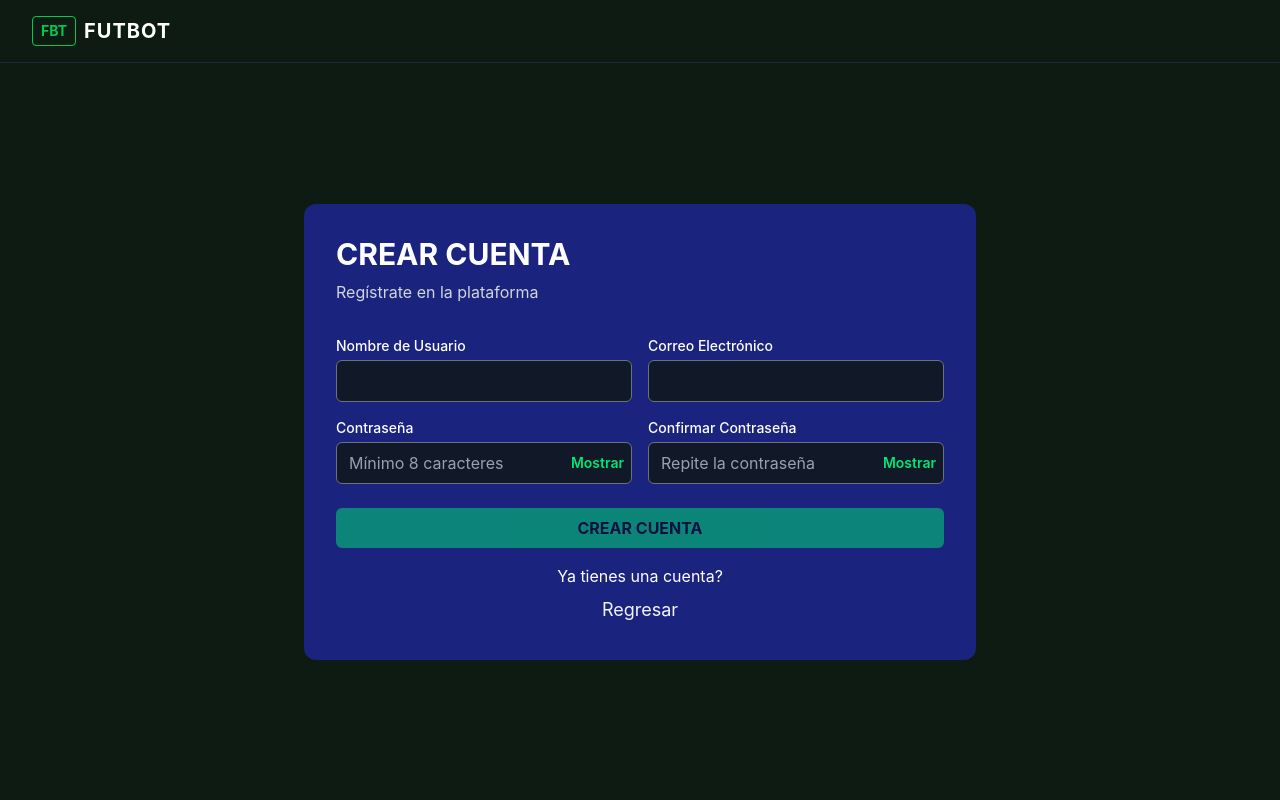
Test case: Registro › muestra el error devuelto por la API
Type "usuario123" into the field labelled "Nombre de Usuario". click: (484, 380)
box: x1=336 y1=360 x2=632 y2=402
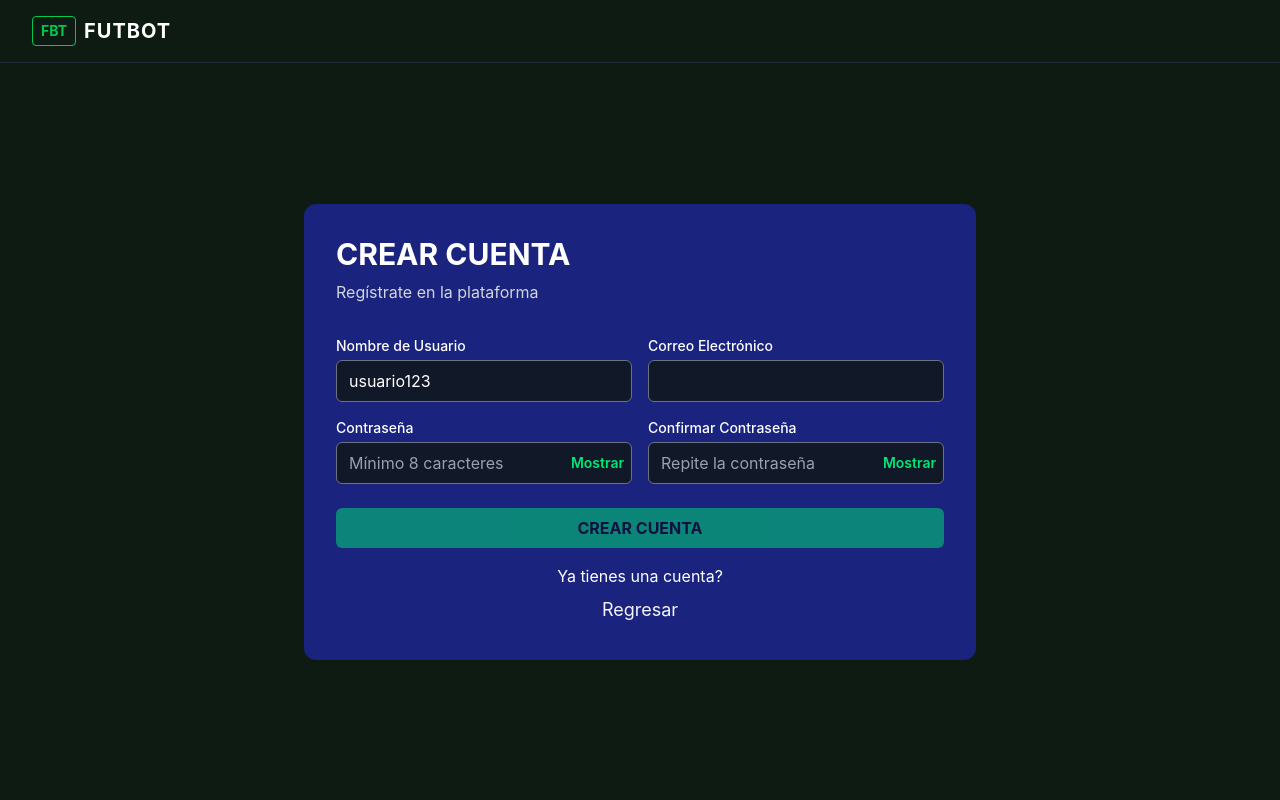
Type "usuario@example.com" into the field labelled "Correo Electrónico". click: (796, 380)
box: x1=648 y1=360 x2=944 y2=402
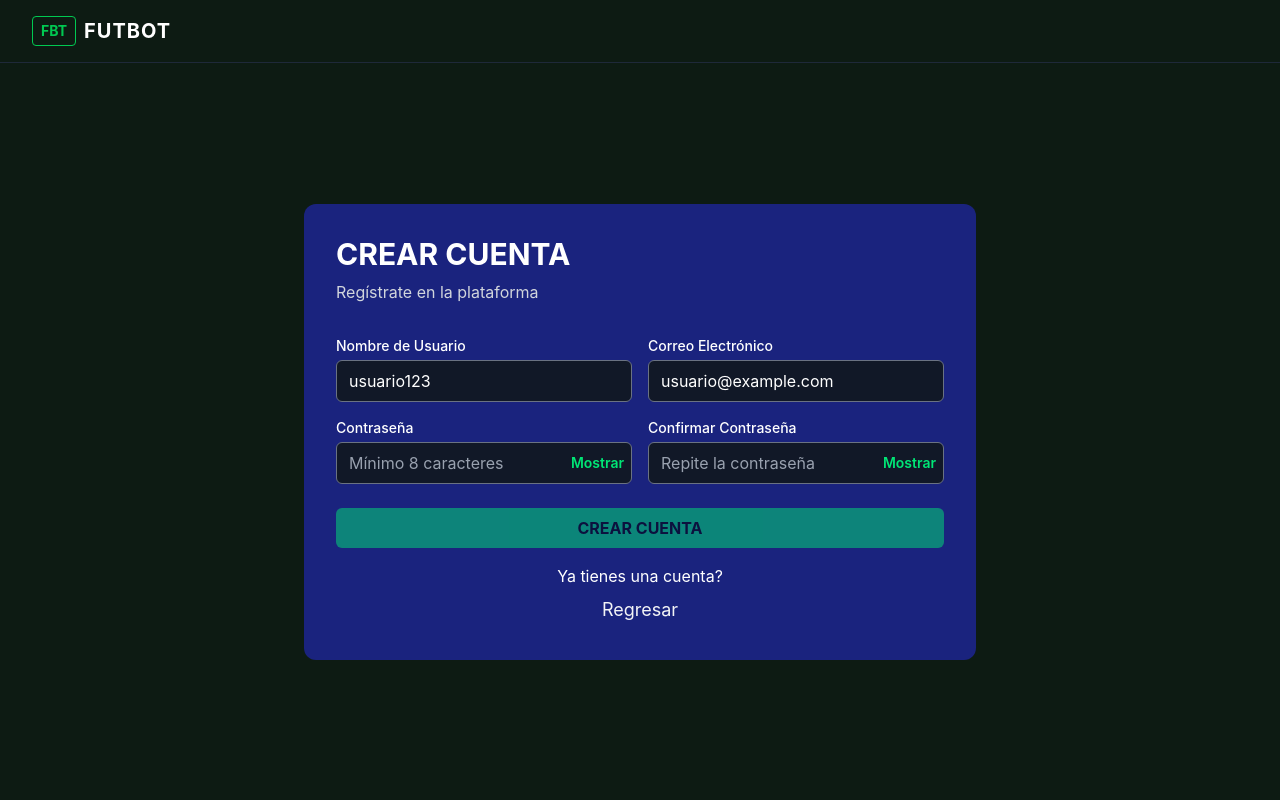
Type "password123" into the password field labelled "Contraseña". click: (484, 462)
box: x1=336 y1=442 x2=632 y2=484
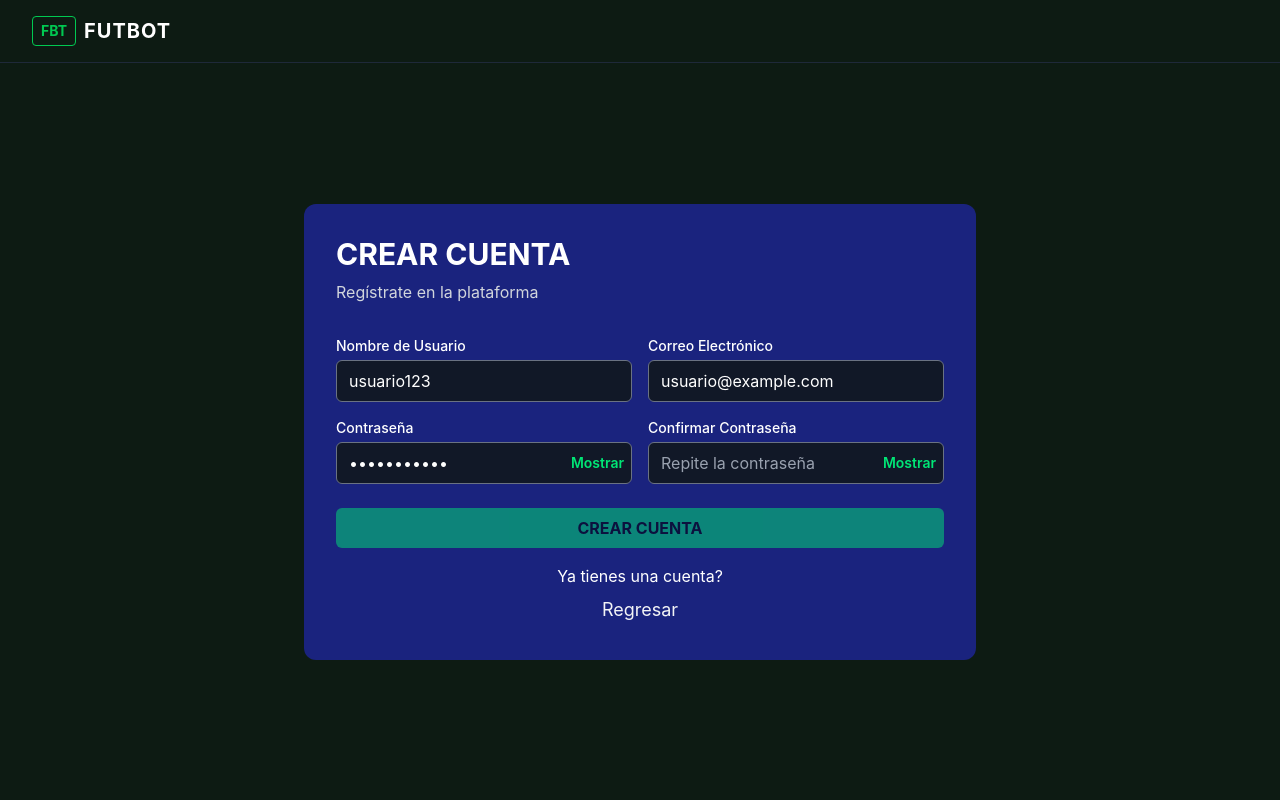
Type "password123" into the password field labelled "Confirmar Contraseña". click: (796, 462)
box: x1=648 y1=442 x2=944 y2=484
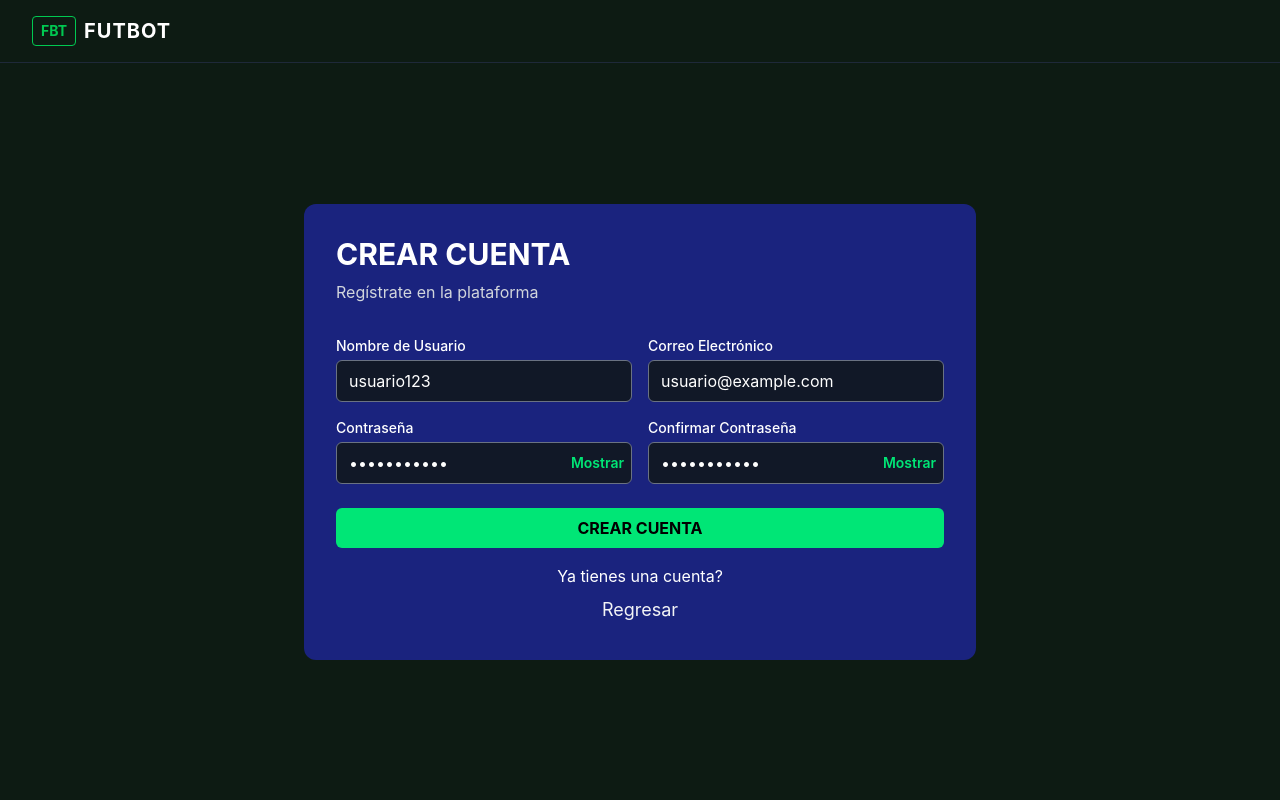
Click the button "CREAR CUENTA". click: (640, 528)
box: x1=336 y1=508 x2=944 y2=548
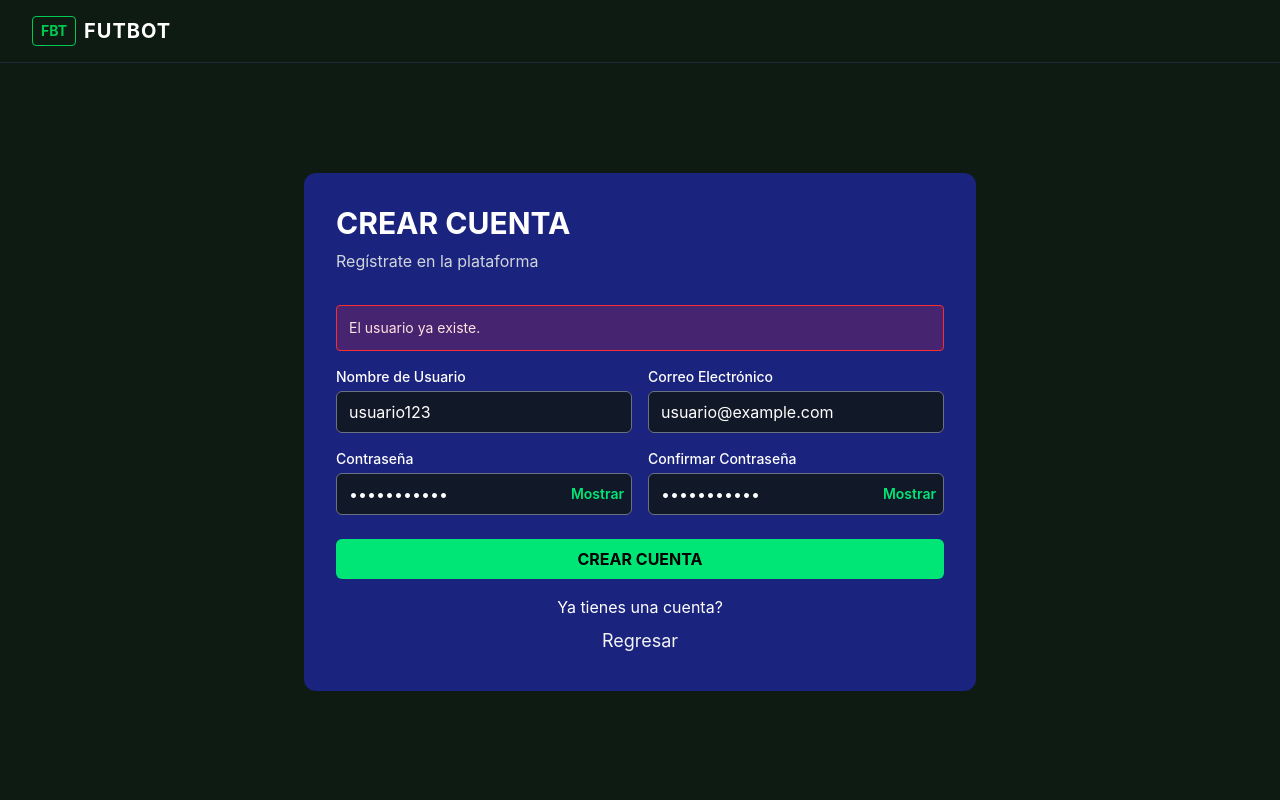
Expected: the text "El usuario ya existe." is shown, x1=336 y1=304 x2=944 y2=350
